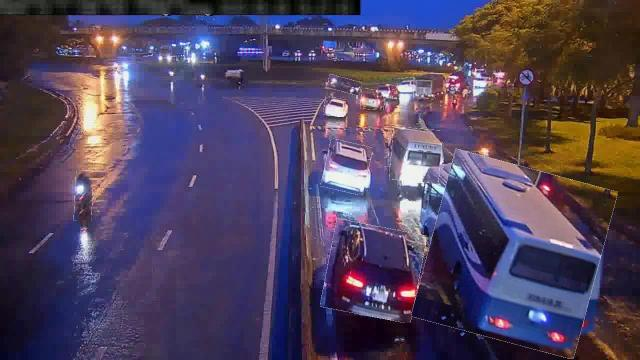Bike: (75, 171, 93, 221)
Bus: (420, 158, 608, 350), (391, 128, 442, 182)
Car: (324, 222, 424, 320), (323, 140, 371, 194), (327, 76, 361, 93), (361, 90, 385, 110), (324, 97, 346, 117), (375, 82, 401, 98), (398, 78, 414, 90)
Truck: (413, 74, 445, 98)
